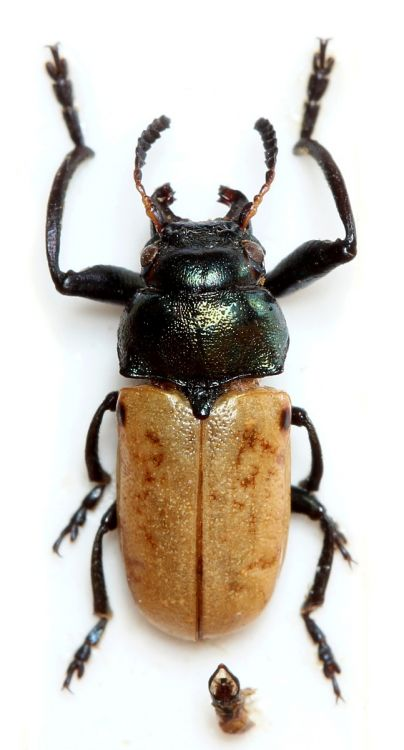Labidostomis_propinqua: (26, 34, 371, 709)
